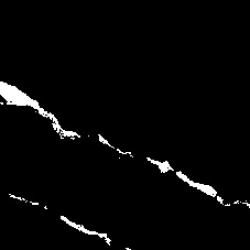crack: (2, 80, 245, 211), (9, 190, 113, 245)
